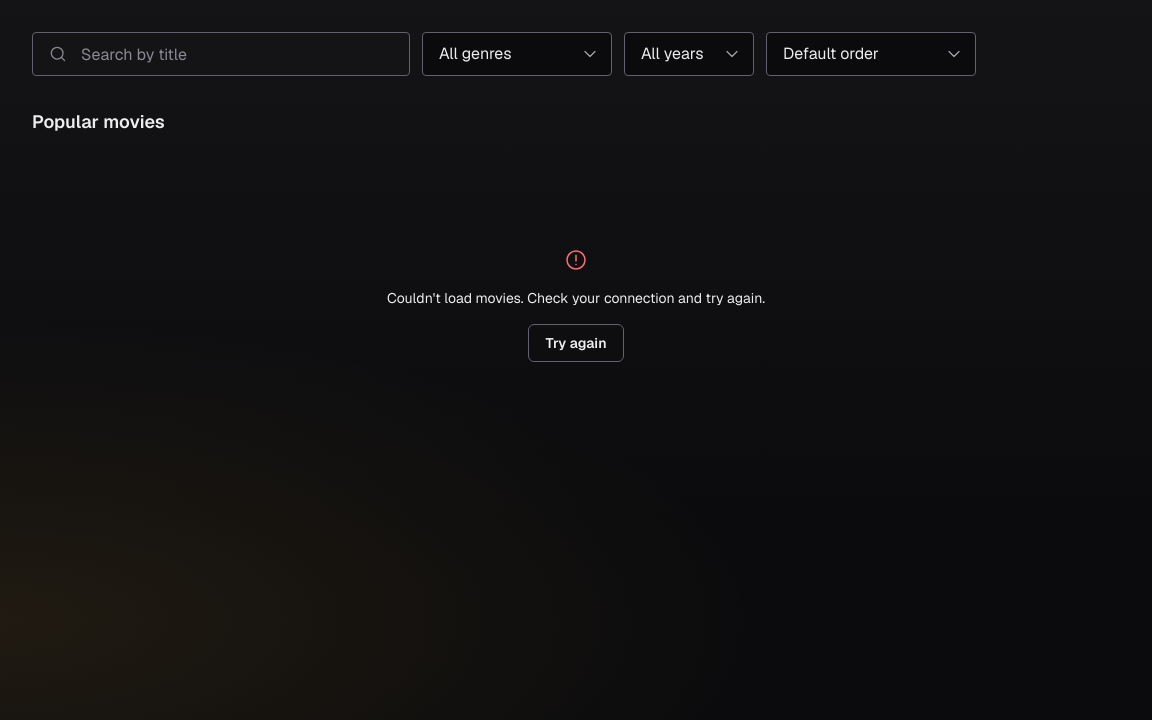
it: ExplorerClient — results › shows the full error state and retries the first page (RF-14)
Expected: the message shows "Couldn't load movies", [387, 289, 765, 307]
Click the button "Try again". click: (576, 343)
box: [528, 324, 624, 362]
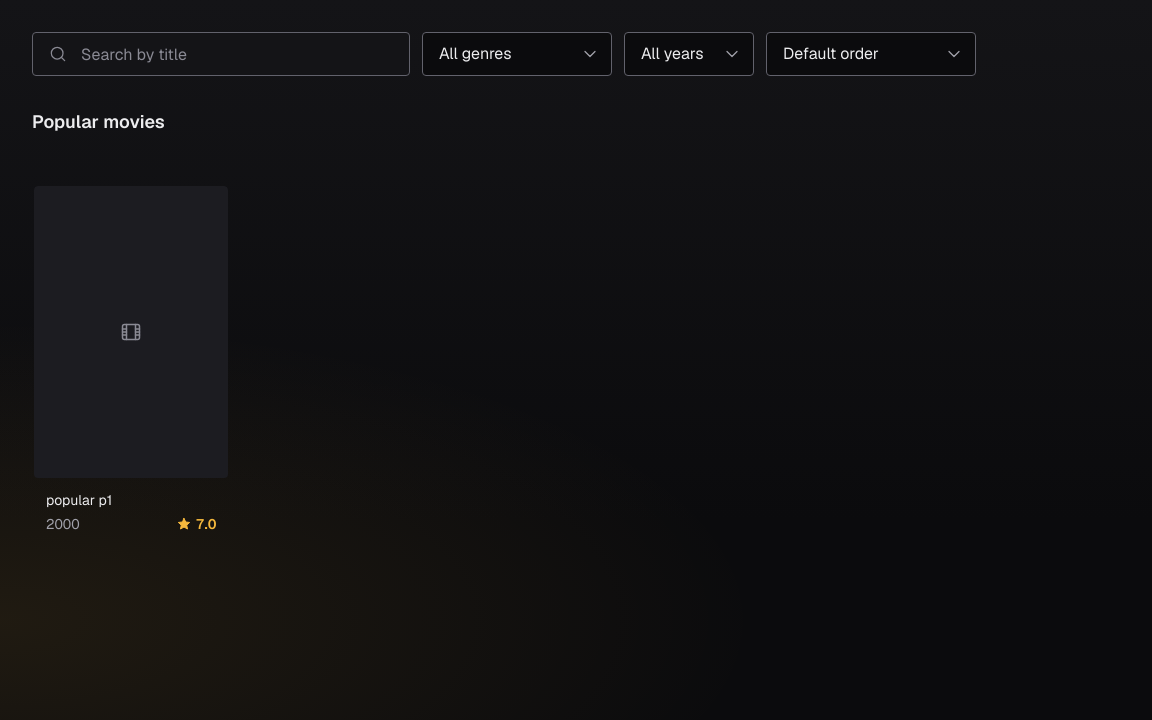
Expected: the heading "popular p1" is shown, [46, 491, 112, 509]
Expected: the message "Couldn't load movies. Check your connection and try again. Try again" is gone
